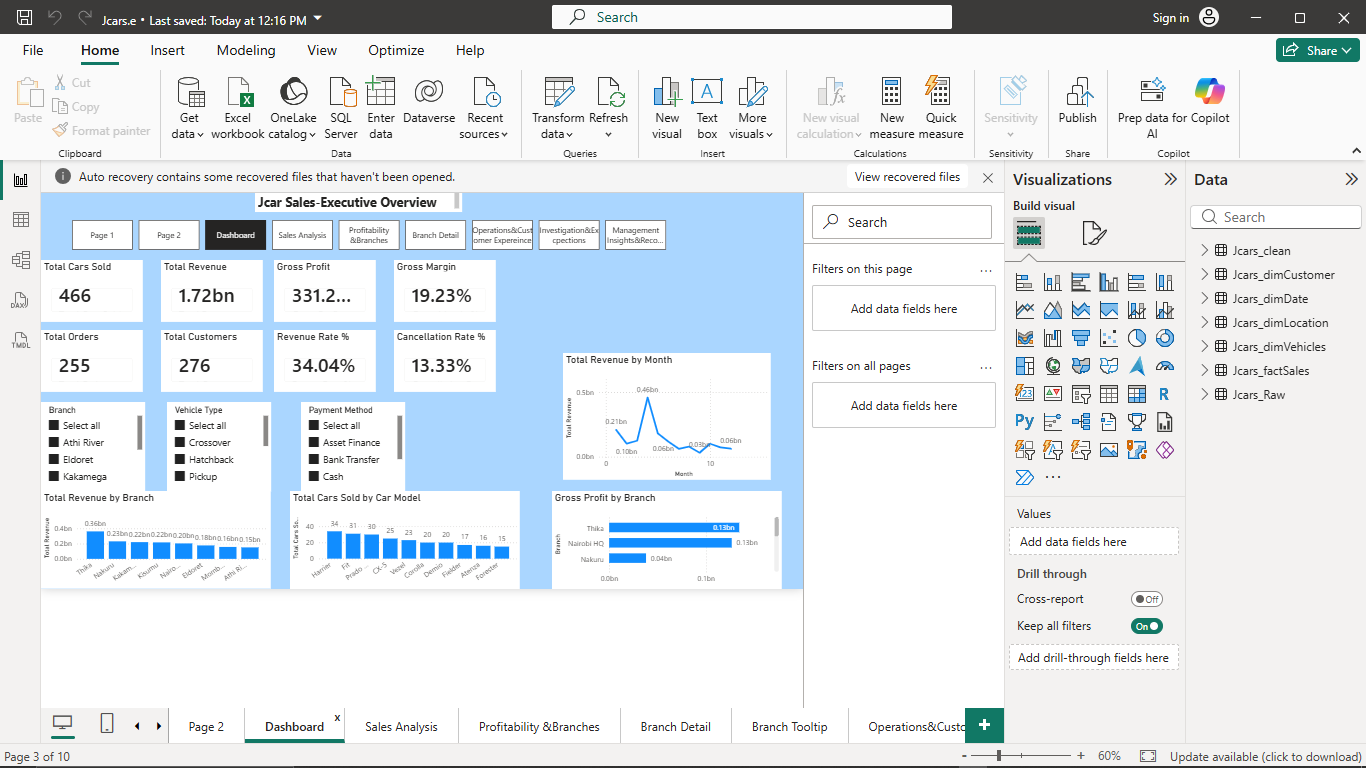

This screenshot's page, from the dashboard's own definition file:
{"tool":"powerbi","page":{"name":"Dashboard","canvas":[1280,720],"ordinal":2},"visuals":[{"type":"cardVisual","title":"Total Cars Sold","fields":{"Data":["Jcars_Raw.Total Cars Sold"]},"box":[0,168,171,104],"z":0},{"type":"cardVisual","title":"Total Revenue","fields":{"Data":["Jcars_Raw.Total Revenue"]},"box":[201.6,168,171,104],"z":1000},{"type":"cardVisual","title":"Gross Profit","fields":{"Data":["Jcars_Raw.Gross Profit"]},"box":[391.4,168,171,104],"z":2000},{"type":"cardVisual","title":"Gross Margin","fields":{"Data":["Jcars_Raw.Gross Margin %"]},"box":[593,168,171,104],"z":3000},{"type":"cardVisual","title":"Total Orders","fields":{"Data":["Jcars_Raw.Total Orders"]},"box":[0,285.6,171,104],"z":4000},{"type":"cardVisual","title":"Total Customers","fields":{"Data":["Jcars_Raw.Total Customers"]},"box":[201.6,285.6,171,104],"z":5000},{"type":"cardVisual","title":"Revenue Rate %","fields":{"Data":["Jcars_Raw.Return Rate %"]},"box":[391.4,285.6,171,104],"z":6000},{"type":"cardVisual","title":"Cancellation Rate %","fields":{"Data":["Jcars_Raw.Cancellation Rate %"]},"box":[593,285.6,171,104],"z":7000},{"type":"lineChart","fields":{"Category":["Jcars_dimDate.Month"],"Y":["Jcars_Raw.Total Revenue"]},"box":[876.9,324.2,349.4,213.3],"z":8000},{"type":"clusteredColumnChart","fields":{"Category":["Jcars_factSales.Branch"],"Y":["Jcars_Raw.Total Revenue"]},"box":[0,556,386,164],"z":9000},{"type":"clusteredColumnChart","fields":{"Category":["Jcars_factSales.Car Model"],"Y":["Jcars_Raw.Total Cars Sold"]},"box":[418.3,556,386,164.6],"z":10000},{"type":"clusteredBarChart","fields":{"Category":["Jcars_dimLocation.Branch"],"Y":["Jcars_Raw.Gross Profit"]},"box":[858.4,556,386.4,164.6],"z":11000},{"type":"textbox","box":[359.5,50.4,347.7,37],"z":12000},{"type":"pageNavigator","box":[52.1,100.8,999.5,50.4],"z":13000},{"type":"slicer","fields":{"Values":["Jcars_factSales.Branch"]},"box":[0,406.5,175,150],"z":14000},{"type":"slicer","fields":{"Values":["Jcars_factSales.Vehicle Type"]},"box":[211.7,406.5,175,150],"z":15000},{"type":"slicer","fields":{"Values":["Jcars_factSales.Payment Method"]},"box":[436.7,406.5,175,150],"z":16000}]}

Visuals, with their boxes on the page's 1280x720 design canvas (x1, y1, x2, y2). These are canvas units, not pixel positions in the 1366x768 screenshot, which may show the page scaled, cropped or inside an application window:
"Total Cars Sold" cardVisual: bbox=(0, 168, 171, 272)
"Total Revenue" cardVisual: bbox=(202, 168, 373, 272)
"Gross Profit" cardVisual: bbox=(391, 168, 562, 272)
"Gross Margin" cardVisual: bbox=(593, 168, 764, 272)
"Total Orders" cardVisual: bbox=(0, 286, 171, 390)
"Total Customers" cardVisual: bbox=(202, 286, 373, 390)
"Revenue Rate %" cardVisual: bbox=(391, 286, 562, 390)
"Cancellation Rate %" cardVisual: bbox=(593, 286, 764, 390)
lineChart - Jcars_dimDate.Month x Jcars_Raw.Total Revenue: bbox=(877, 324, 1226, 538)
clusteredColumnChart - Jcars_factSales.Branch x Jcars_Raw.Total Revenue: bbox=(0, 556, 386, 720)
clusteredColumnChart - Jcars_factSales.Car Model x Jcars_Raw.Total Cars Sold: bbox=(418, 556, 804, 721)
clusteredBarChart - Jcars_dimLocation.Branch x Jcars_Raw.Gross Profit: bbox=(858, 556, 1245, 721)
textbox: bbox=(360, 50, 707, 87)
pageNavigator: bbox=(52, 101, 1052, 151)
slicer - Jcars_factSales.Branch: bbox=(0, 406, 175, 556)
slicer - Jcars_factSales.Vehicle Type: bbox=(212, 406, 387, 556)
slicer - Jcars_factSales.Payment Method: bbox=(437, 406, 612, 556)
